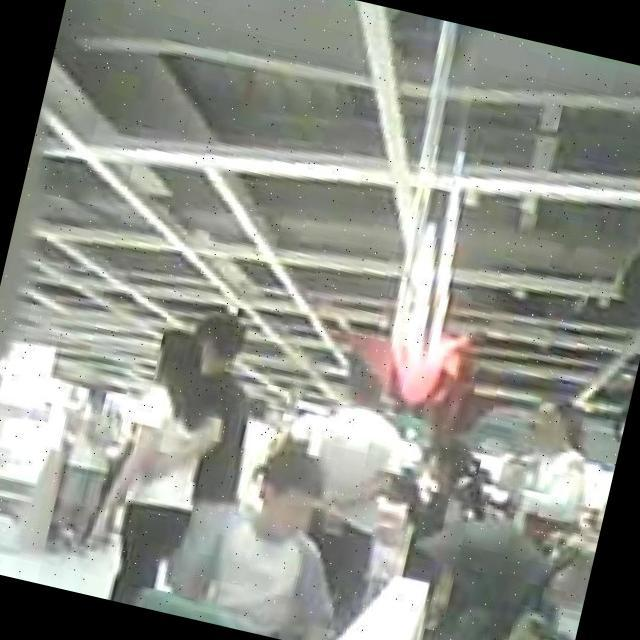person: (133, 302, 277, 622), (265, 362, 426, 640), (164, 430, 369, 640), (83, 319, 229, 613), (495, 388, 616, 547), (386, 424, 490, 594), (32, 382, 122, 554)
